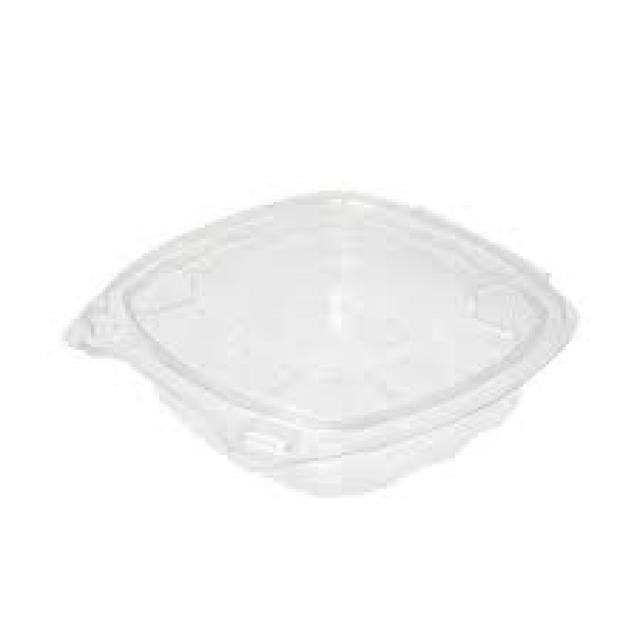disposable: (98, 180, 611, 507)
